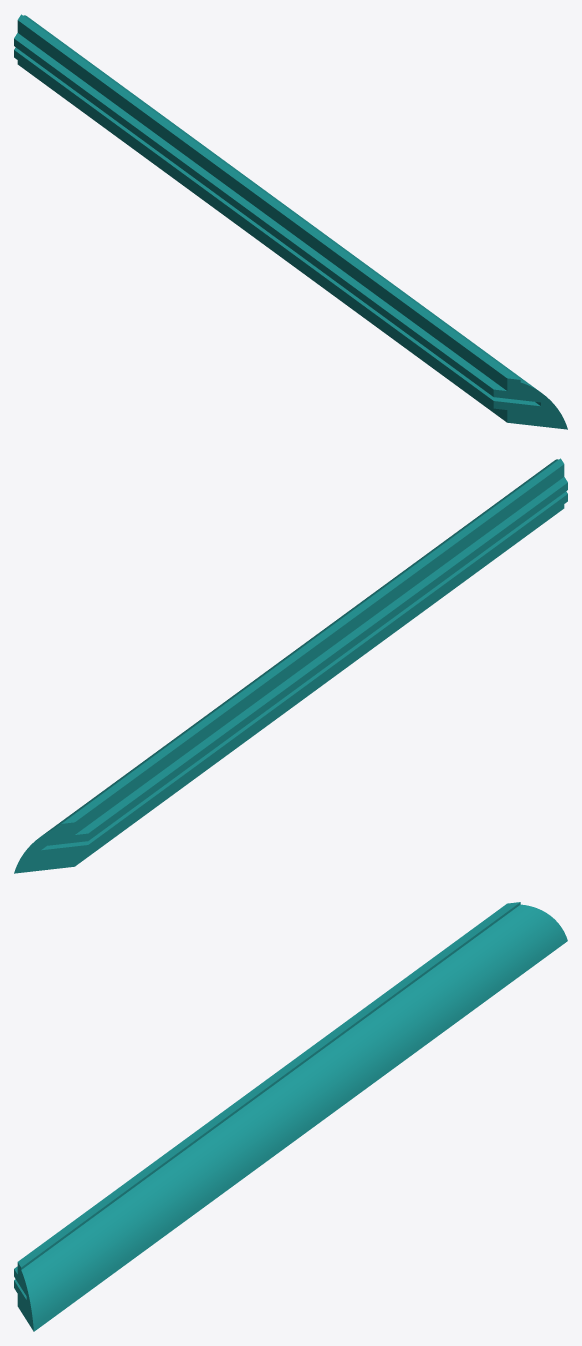
File: original-27.obj
3 views of the same model, one above another, from view 1: azimuth 30°, elevation 25°; view 2: azimuth 150°, elevation 25°; view 3: azimuth 330°, elevation 25° (orthographic).
Parts seen in each view (by area): view 1: edge_short1/edge_short/mesh26/mesh26-geometry#mesh26-geometry; view 2: edge_short1/edge_short/mesh26/mesh26-geometry#mesh26-geometry; view 3: edge_short1/edge_short/mesh26/mesh26-geometry#mesh26-geometry.
Boxes of the visible parts, x1,y1,x2,y2 form: edge_short1/edge_short/mesh26/mesh26-geometry#mesh26-geometry: (14, 14, 567, 429); edge_short1/edge_short/mesh26/mesh26-geometry#mesh26-geometry: (14, 458, 567, 873); edge_short1/edge_short/mesh26/mesh26-geometry#mesh26-geometry: (14, 902, 567, 1331).
Size of the model in its own units: 0.0395 by 0.0355 by 0.7747.
